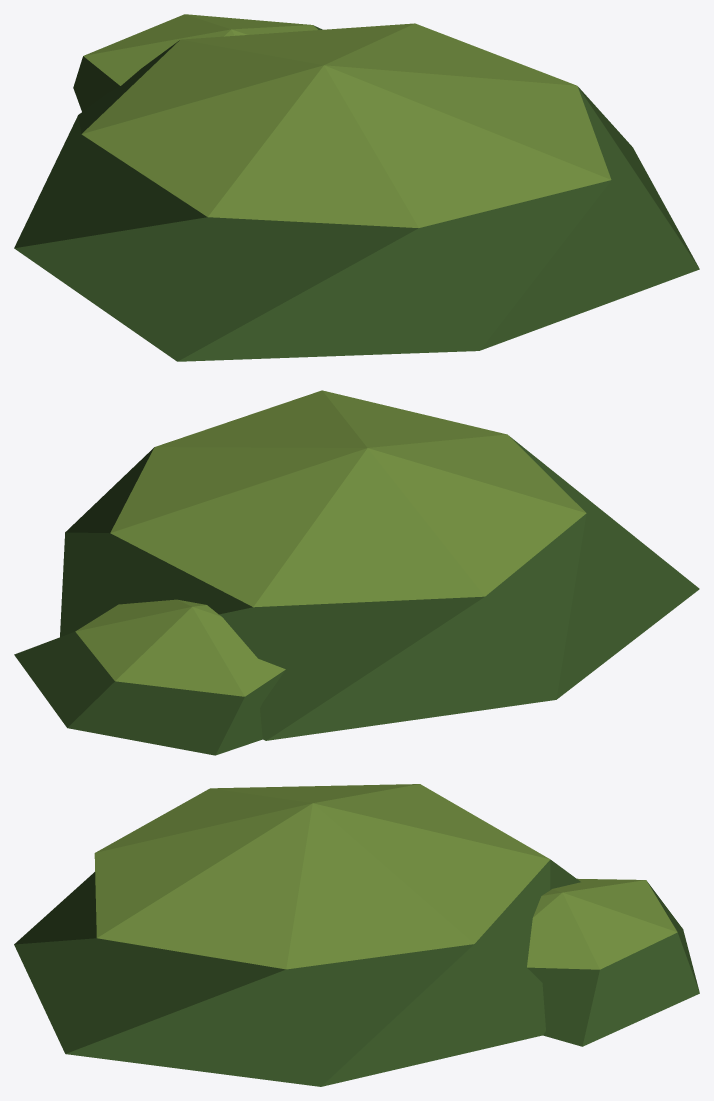
Rendered from gf_moss_b.glb.
3 views of the same model, one above another, from view 1: azimuth 30°, elevation 25°; view 2: azimuth 150°, elevation 25°; view 3: azimuth 270°, elevation 25° (orthographic). The views are drawn at different scales.
Visible parts, largest first — view 1: gf_moss_b; view 2: gf_moss_b; view 3: gf_moss_b.
Part boxes in pixels (x1,y1,x2,y2): gf_moss_b: (14, 14, 699, 361); gf_moss_b: (14, 390, 699, 755); gf_moss_b: (14, 784, 699, 1086).
Size of the model in its own units: 0.1395 by 0.038 by 0.1619.
